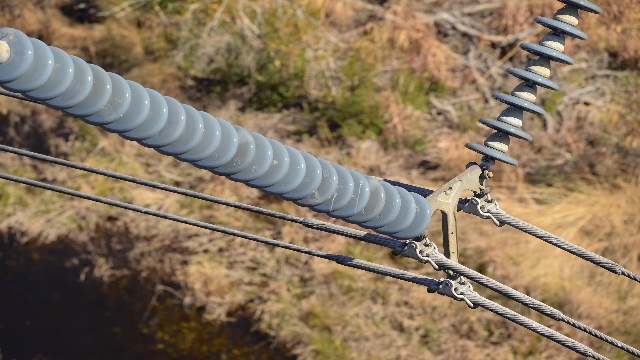insulator_unspecified: (0, 27, 430, 240), (465, 0, 605, 166)
pollution_flashover_local: (95, 102, 117, 122), (233, 128, 253, 145), (365, 174, 381, 193), (307, 188, 324, 205)
